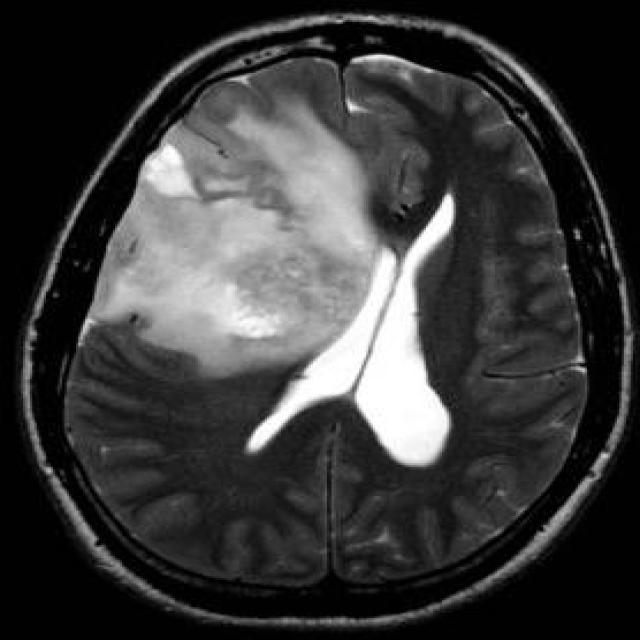Tumor-Cell: (109, 94, 360, 403)
